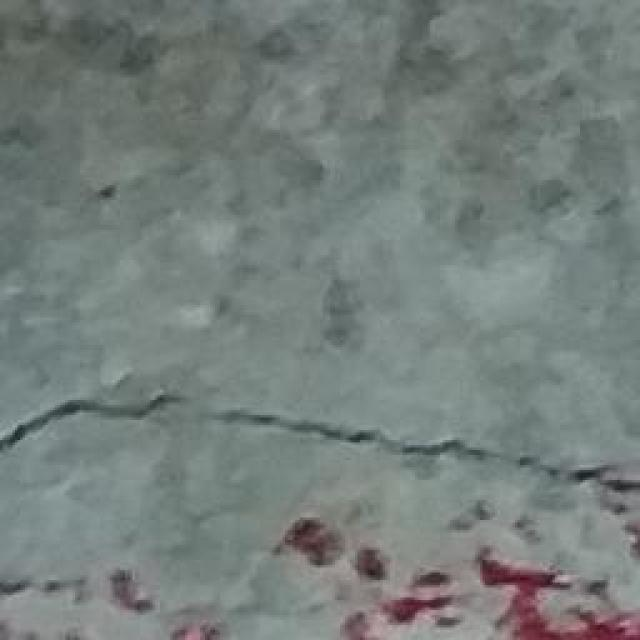Transverse: (0, 378, 640, 530)
